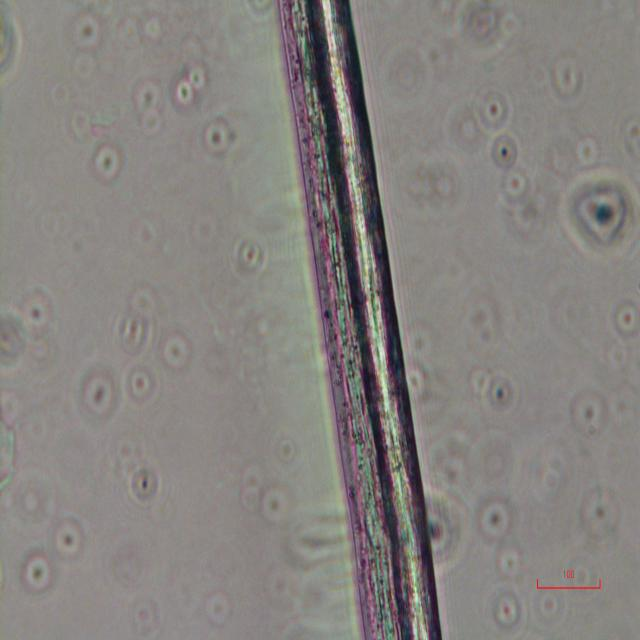Background material: (439, 418, 579, 505), (477, 80, 545, 242), (114, 279, 182, 403), (562, 168, 640, 265), (480, 503, 528, 631), (0, 279, 60, 378), (396, 151, 470, 223), (112, 424, 165, 507), (403, 324, 445, 428), (425, 483, 473, 572), (10, 463, 62, 544), (444, 3, 525, 53), (118, 203, 176, 269), (457, 280, 508, 350), (281, 513, 346, 565), (576, 482, 626, 541), (126, 68, 168, 138), (238, 467, 288, 524), (542, 48, 587, 107), (466, 362, 522, 409), (70, 12, 104, 89), (80, 359, 118, 424), (66, 99, 116, 142), (0, 3, 23, 89), (170, 63, 210, 112), (52, 516, 88, 570), (448, 98, 482, 152), (204, 586, 238, 634), (21, 550, 53, 600), (568, 392, 606, 434), (235, 230, 269, 276), (0, 384, 14, 489), (90, 147, 124, 187), (204, 115, 232, 160), (535, 588, 569, 624), (612, 299, 638, 340), (273, 434, 297, 467)
Microfibre: (274, 1, 442, 639)
